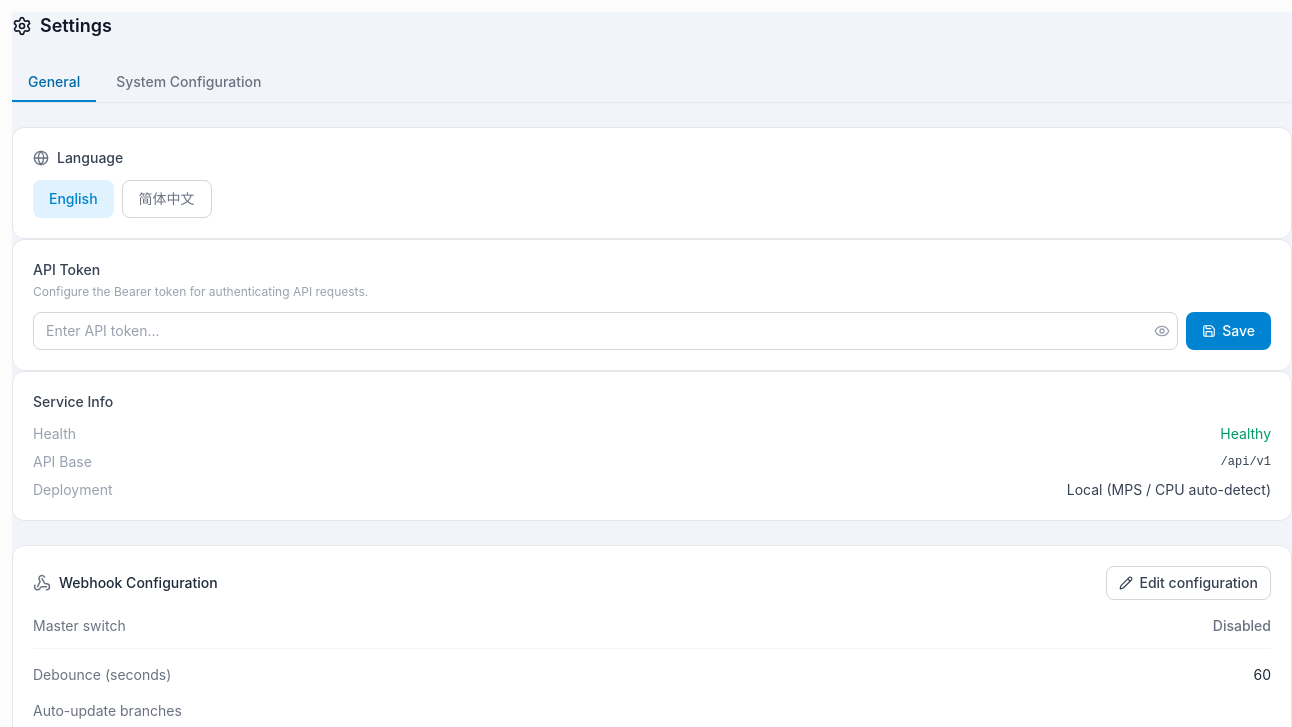
Test: SettingsPage › switches to system config tab
Click the tab "System Configuration". click: coordinates (189, 83)
box: [100,64,278,102]
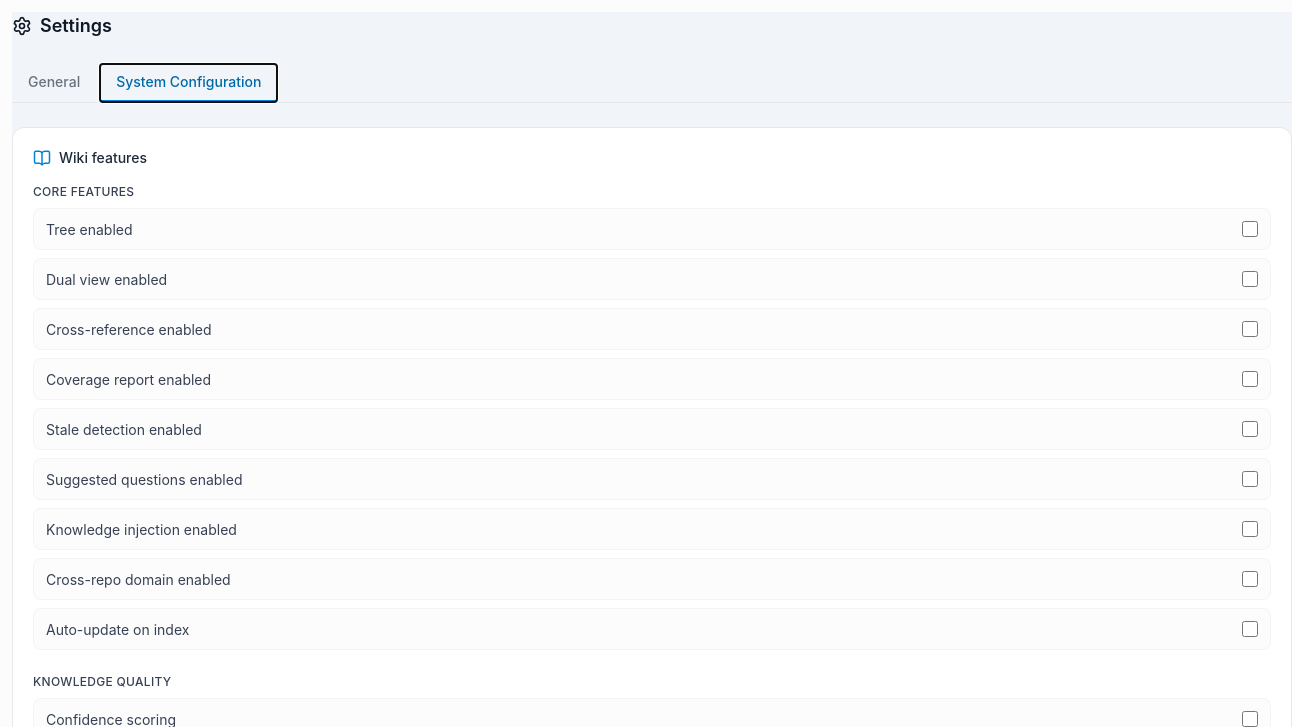
Result: the heading "Wiki features" is shown at [59,148,147,168]
